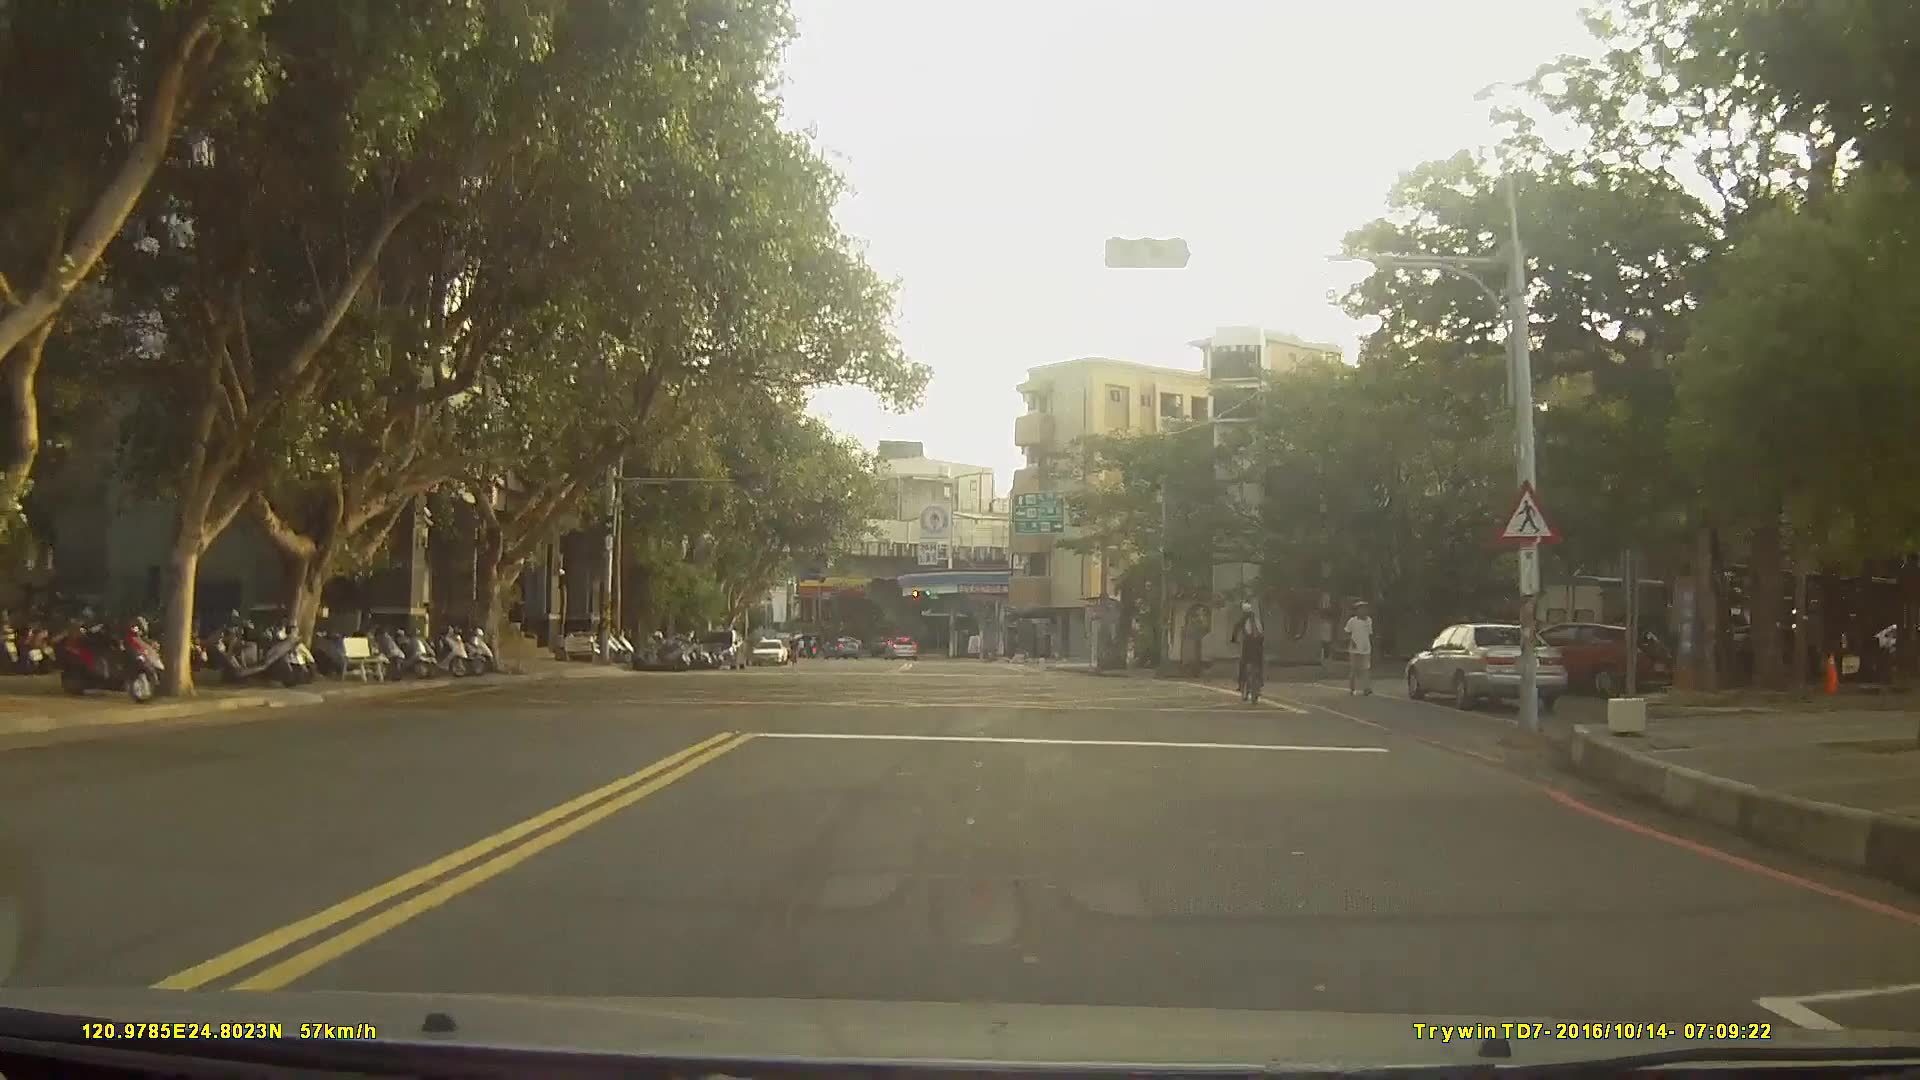pedestrian: (1342, 597, 1381, 705), (506, 602, 526, 648)
rider: (1228, 604, 1273, 706)
vehicle: (1406, 619, 1567, 709), (1505, 620, 1652, 696), (693, 628, 747, 671), (752, 630, 788, 662), (883, 632, 916, 657)
